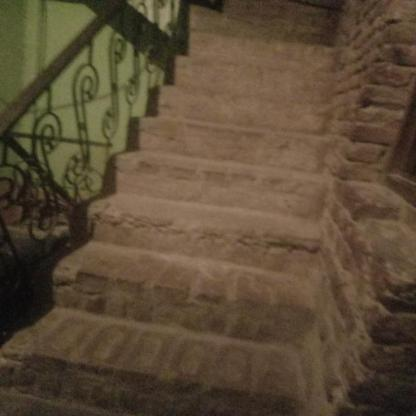stair: (40, 18, 376, 393)
